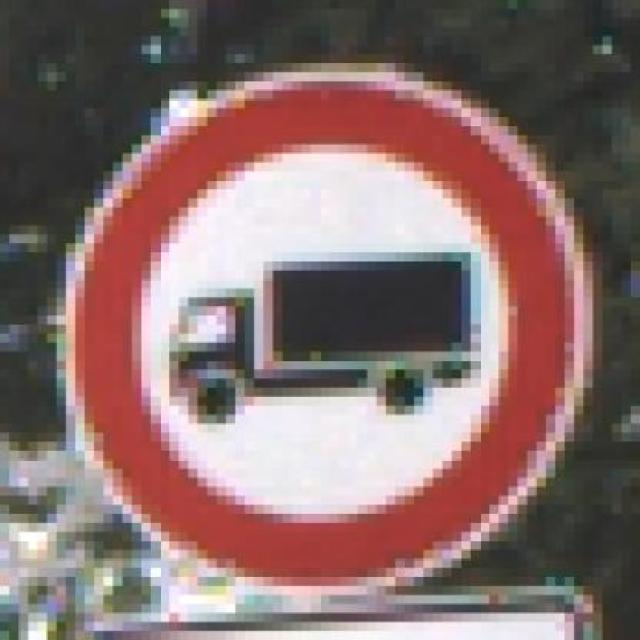Truck traffic is prohibited: (56, 18, 602, 613)
